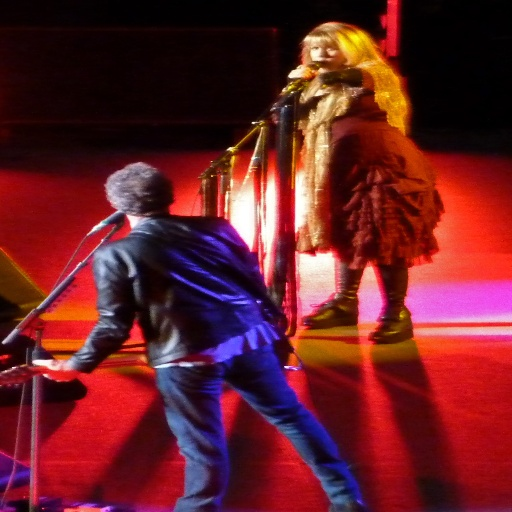hand: (32, 358, 80, 381), (283, 66, 320, 85)
